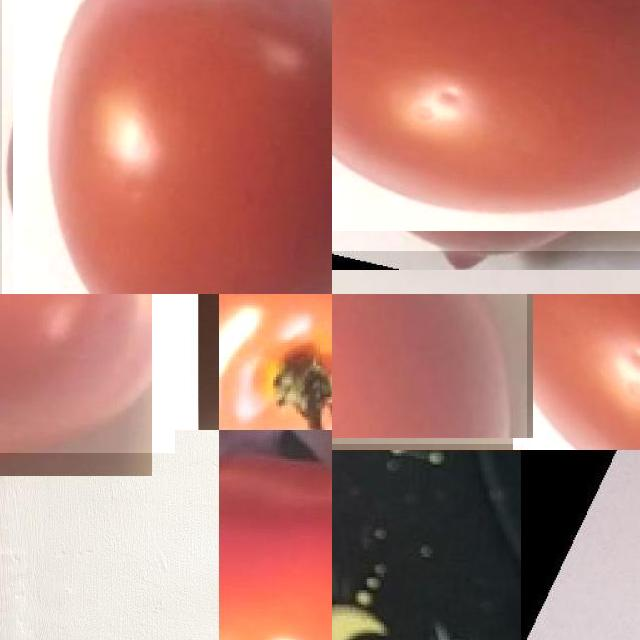Fresh Tomato: (2, 0, 332, 294), (332, 0, 640, 250), (332, 294, 527, 444), (0, 294, 175, 453), (219, 430, 332, 640), (219, 294, 332, 430)
